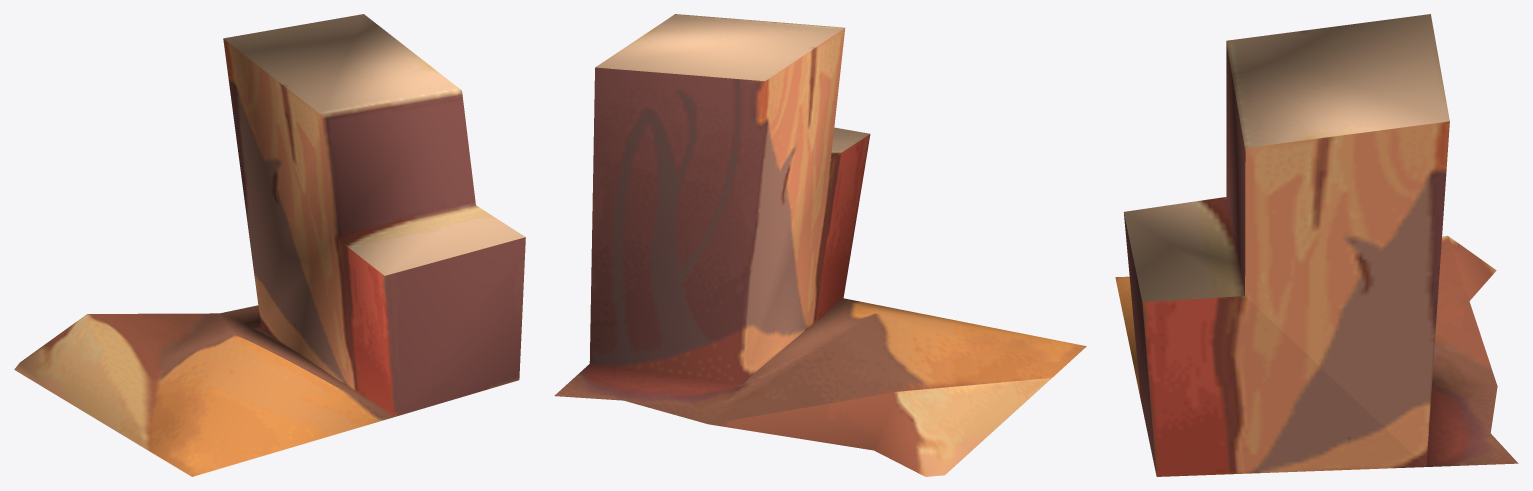
The model's file is sm_shishan1.fbx.
3 views of the same model, side by side, from view 1: azimuth 30°, elevation 25°; view 2: azimuth 150°, elevation 25°; view 3: azimuth 270°, elevation 25° (orthographic). The views are drawn at different scales.
Visible parts, largest first — view 1: sm_shishan1; view 2: sm_shishan1; view 3: sm_shishan1.
Boxes of the visible parts, box(x1,y1,x2,y2) form: sm_shishan1: box(14, 14, 525, 476); sm_shishan1: box(554, 14, 1086, 476); sm_shishan1: box(1115, 14, 1518, 476).
Bounding box in the file's own units: 4971 × 3886 × 3965.
